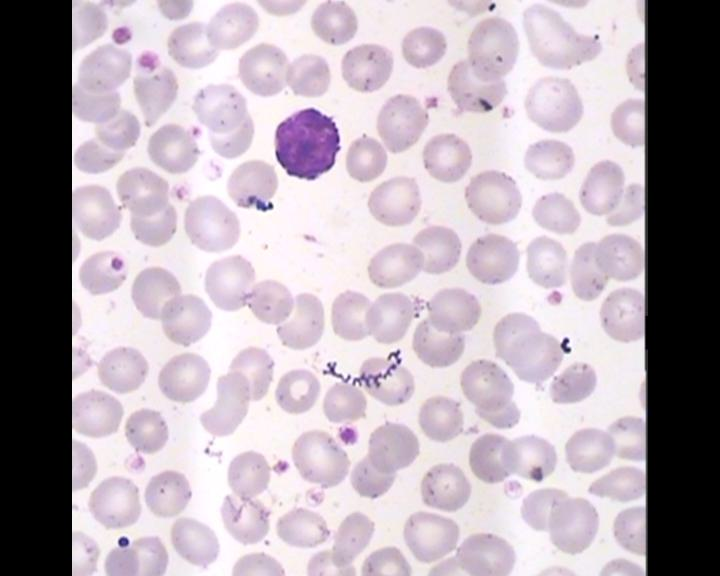baso: (270, 102, 347, 183)
